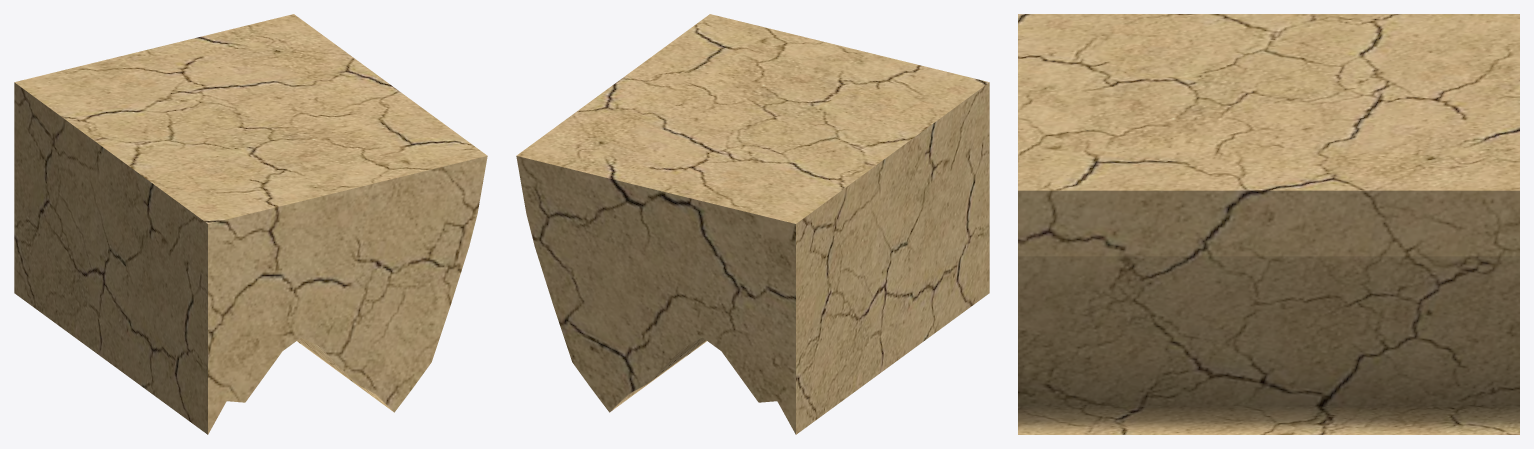
Rendered from plataformaPicosFinal.fbx.
3 renders of one model, left to right at view 1: azimuth 30°, elevation 25°; view 2: azimuth 150°, elevation 25°; view 3: azimuth 270°, elevation 25°, orthographic. The views are drawn at different scales.
Visible parts, largest first — view 1: plataformaPicosFinal; view 2: plataformaPicosFinal; view 3: plataformaPicosFinal.
Boxes of the visible parts, bbox=[...] form: plataformaPicosFinal: bbox=[14, 14, 487, 434]; plataformaPicosFinal: bbox=[516, 14, 989, 434]; plataformaPicosFinal: bbox=[1018, 14, 1519, 434].
Size of the model in its own units: 2.5 by 2 by 3.
1 material, 1 textured.
